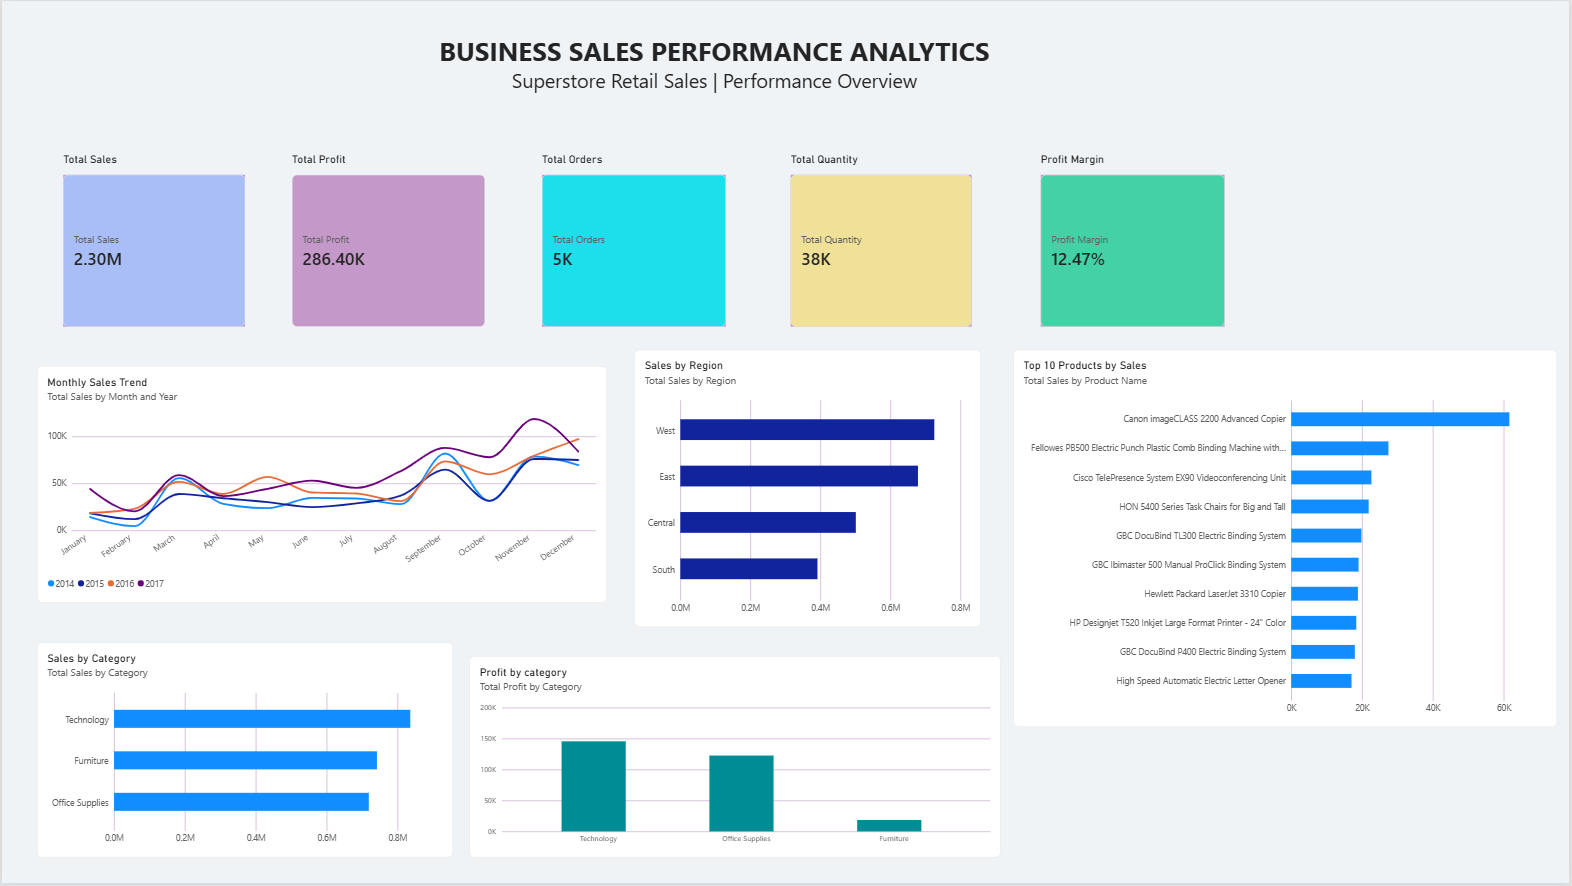

Layout of this report page (visuals, bound fields, positions):
{"tool":"powerbi","page":{"name":"Page 1","canvas":[2560,1440],"ordinal":0},"visuals":[{"type":"cardVisual","title":"Total Sales","fields":{"Data":["superstore_cleaned.Total Sales"]},"box":[100,246.7,297.5,285],"z":0},{"type":"cardVisual","title":"Total Profit","fields":{"Data":["superstore_cleaned.Total Profit"]},"box":[472.5,247.5,315,285],"z":1000},{"type":"cardVisual","title":"Total Orders","fields":{"Data":["superstore_cleaned.Total Orders"]},"box":[882.5,247.5,300,285],"z":2000},{"type":"cardVisual","title":"Total Quantity","fields":{"Data":["superstore_cleaned.Total Quantity"]},"box":[1287.5,247.5,295,285],"z":3000},{"type":"cardVisual","title":"Profit Margin","fields":{"Data":["superstore_cleaned.Profit Margin"]},"box":[1695,247.5,300,285],"z":4000},{"type":"lineChart","title":"Monthly Sales Trend","fields":{"Category":["superstore_cleaned.Order Date.Variation.Date Hierarchy.Month"],"Series":["superstore_cleaned.Order Date.Variation.Date Hierarchy.Year"],"Y":["superstore_cleaned.Total Sales"]},"box":[56.7,596.7,930,386.7],"z":5000},{"type":"clusteredBarChart","title":"Sales by Category","fields":{"Category":["superstore_cleaned.Category"],"Y":["superstore_cleaned.Total Sales"]},"box":[56.7,1046.7,680,323.3],"z":6000},{"type":"clusteredBarChart","title":"Sales by Region","fields":{"Category":["superstore_cleaned.Region"],"Y":["superstore_cleaned.Total Sales"]},"box":[1073.3,570,556.7,453.3],"z":7000},{"type":"clusteredColumnChart","title":"Profit by category","fields":{"Category":["superstore_cleaned.Category"],"Y":["superstore_cleaned.Total Profit"]},"box":[816.7,1070,880,300],"z":8000},{"type":"clusteredBarChart","title":"Top 10 Products by Sales","fields":{"Category":["superstore_cleaned.Product Name"],"Y":["superstore_cleaned.Total Sales"]},"box":[1770,570,616.7,616.7],"z":9000},{"type":"textbox","box":[1770,37,150,280],"z":10000},{"type":"textbox","box":[630,50,1065,110],"z":11000}]}

Visuals, with their boxes in screenshot pixels (x1, y1, x2, y2), scaled from the page's 2560x1440 canvas onto the 1572x886 screenshot:
"Total Sales" cardVisual: select_region(61, 152, 244, 327)
"Total Profit" cardVisual: select_region(290, 152, 484, 328)
"Total Orders" cardVisual: select_region(542, 152, 726, 328)
"Total Quantity" cardVisual: select_region(791, 152, 972, 328)
"Profit Margin" cardVisual: select_region(1041, 152, 1225, 328)
"Monthly Sales Trend" lineChart: select_region(35, 367, 606, 605)
"Sales by Category" clusteredBarChart: select_region(35, 644, 452, 843)
"Sales by Region" clusteredBarChart: select_region(659, 351, 1001, 630)
"Profit by category" clusteredColumnChart: select_region(502, 658, 1042, 843)
"Top 10 Products by Sales" clusteredBarChart: select_region(1087, 351, 1466, 730)
textbox: select_region(1087, 23, 1179, 195)
textbox: select_region(387, 31, 1041, 98)
